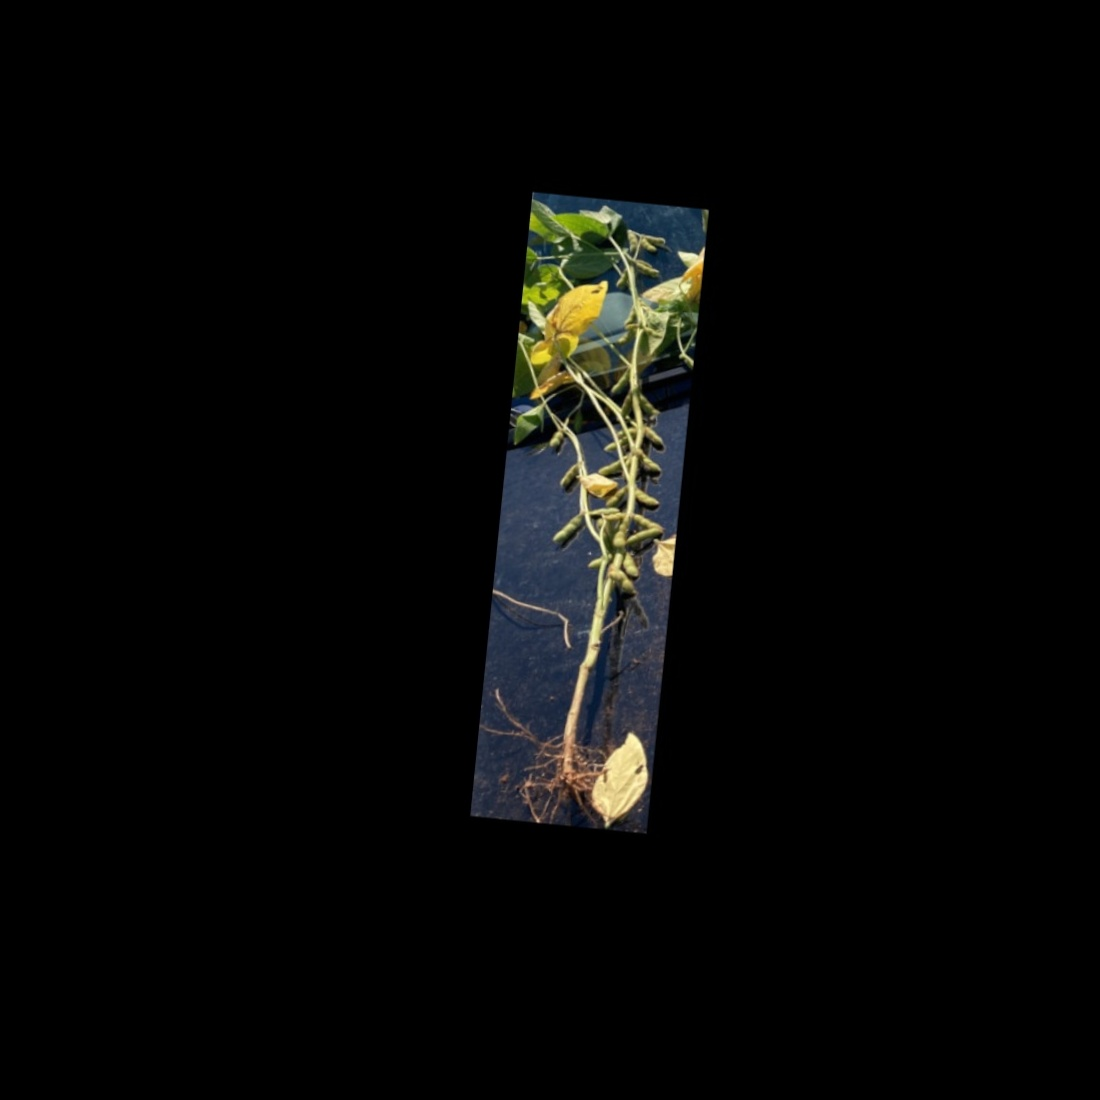pod: (547, 509, 587, 549), (621, 521, 665, 551), (629, 508, 668, 534), (556, 463, 583, 495), (631, 485, 663, 511), (628, 257, 662, 279), (620, 549, 641, 581), (623, 229, 640, 256), (618, 302, 636, 328), (547, 427, 566, 450), (612, 267, 630, 292), (637, 236, 660, 254)
soy: (477, 204, 704, 814)
